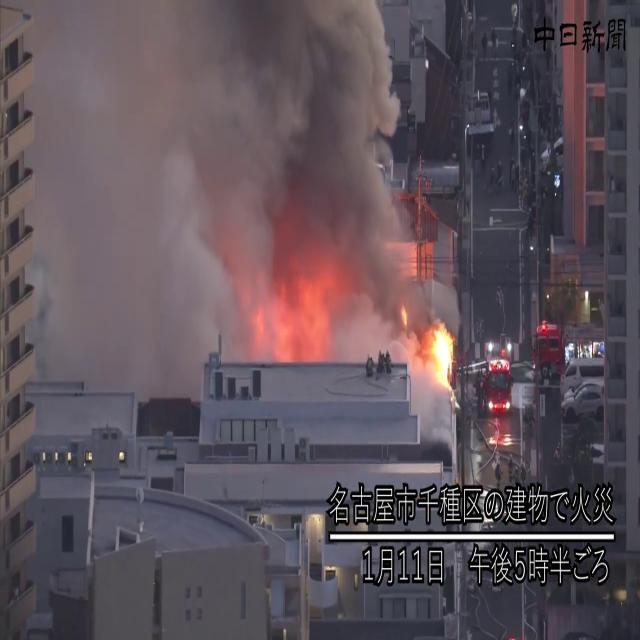Fire: (252, 264, 344, 362)
Smoke: (32, 0, 412, 365)
